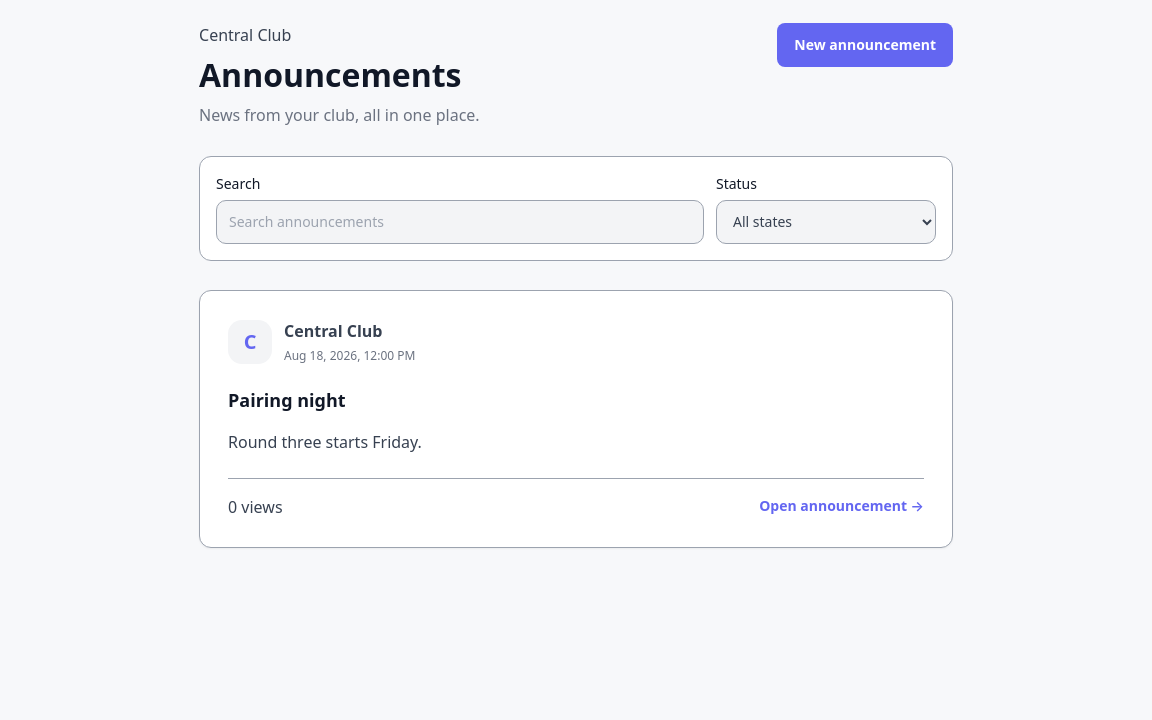
it: announcement workflows › shows draft filters and the rich-text composer to announcement managers
The width and height of the screenshot is (1152, 720).
Expected: the link "Pairing night" is shown, [228,388,346,412]
Expected: the dropdown labelled "Status" is shown, [716,200,936,244]
Click the button "New announcement". click: [865, 45]
box: [777,23,953,67]
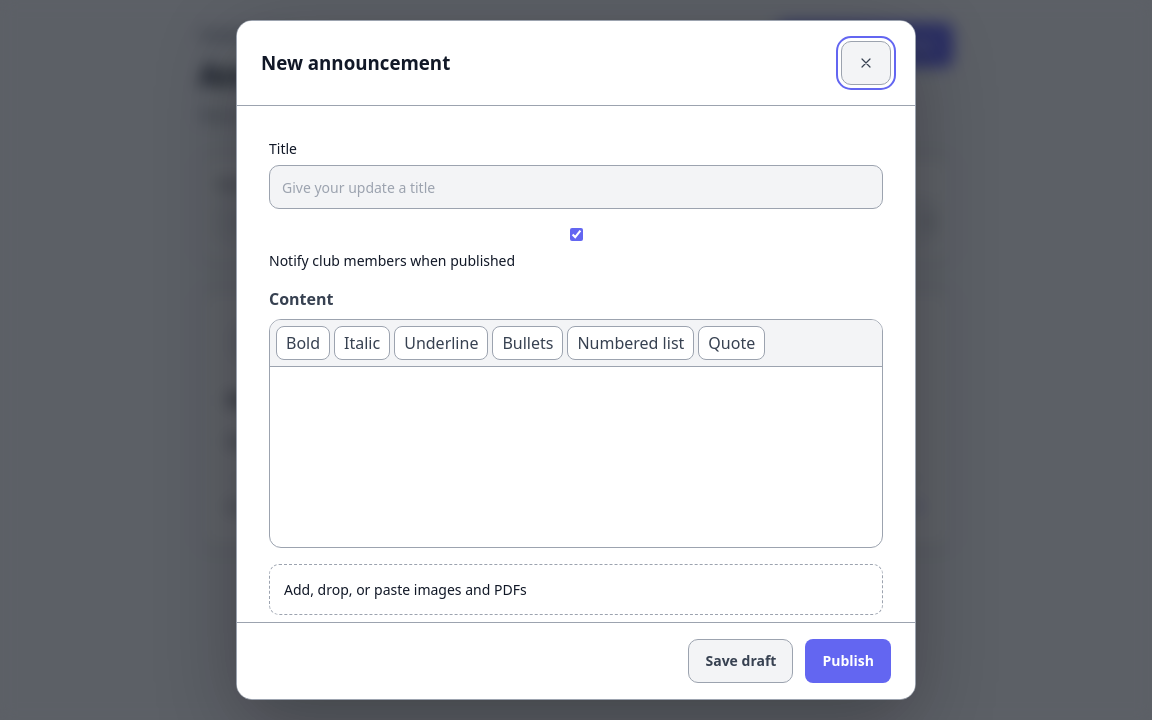
Expected: the dialog "New announcement" is shown, [236,20,916,700]
Expected: the field named "Announcement content" is shown, [270,367,882,547]
